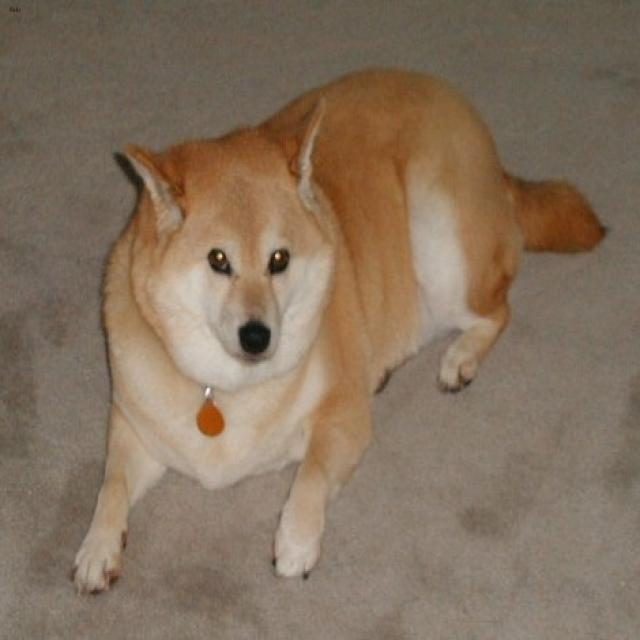dog-shiba_inu: (63, 48, 613, 604)
